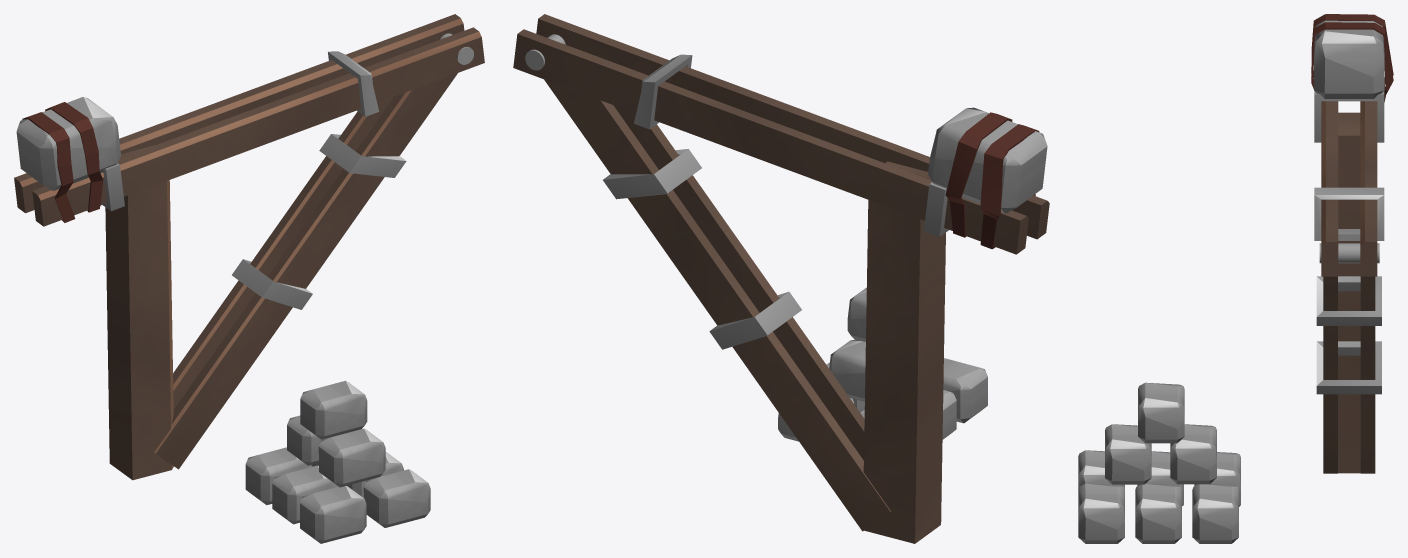
The model's file is winch.fbx.
3 renders of one model, left to right at view 1: azimuth 30°, elevation 25°; view 2: azimuth 150°, elevation 25°; view 3: azimuth 270°, elevation 25°, orthographic. The views are drawn at different scales.
Parts seen in each view (by area): view 1: polySurface3; view 2: polySurface3; view 3: polySurface3.
Boxes of the visible parts, x1,y1,x2,y2 form: polySurface3: (14,14,484,543); polySurface3: (513,14,1049,543); polySurface3: (1078,14,1393,543).
Bounding box in the file's own units: 4.85 × 3.91 × 2.78.
